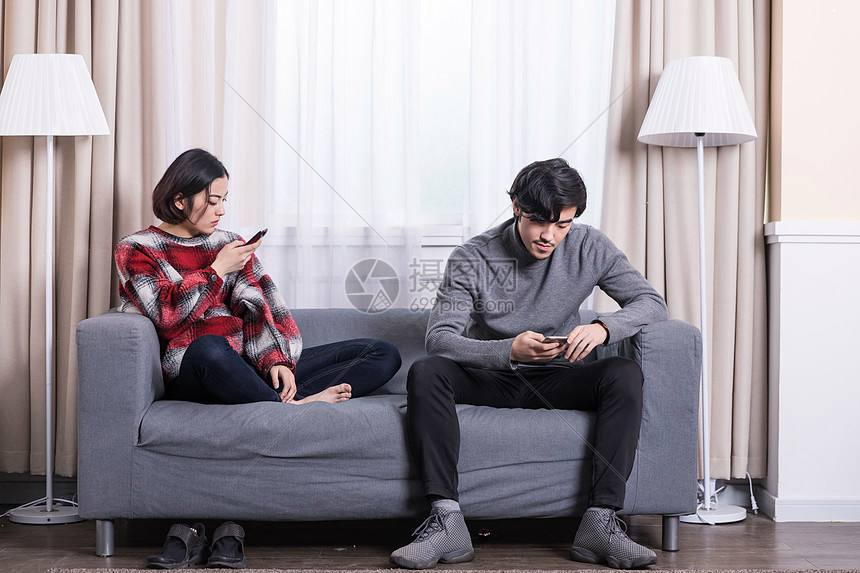reading: (512, 315, 603, 366), (211, 225, 273, 278)
